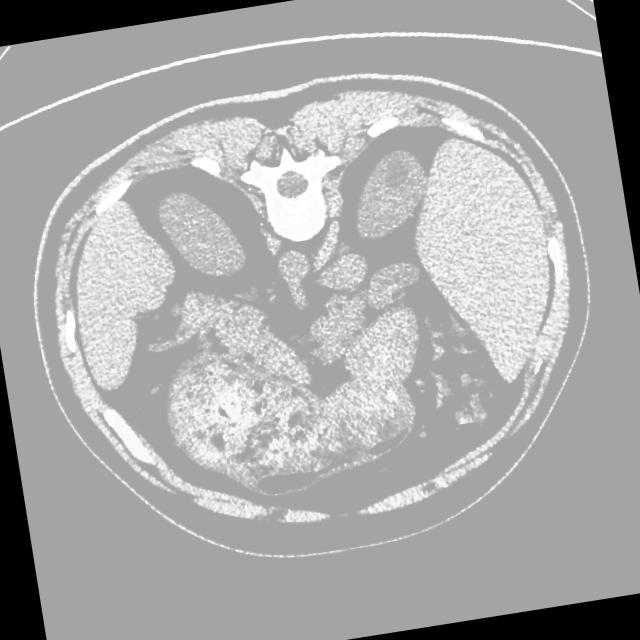TUMOR: (16, 46, 621, 582)
cysts: (16, 46, 621, 582), (36, 92, 616, 578)
